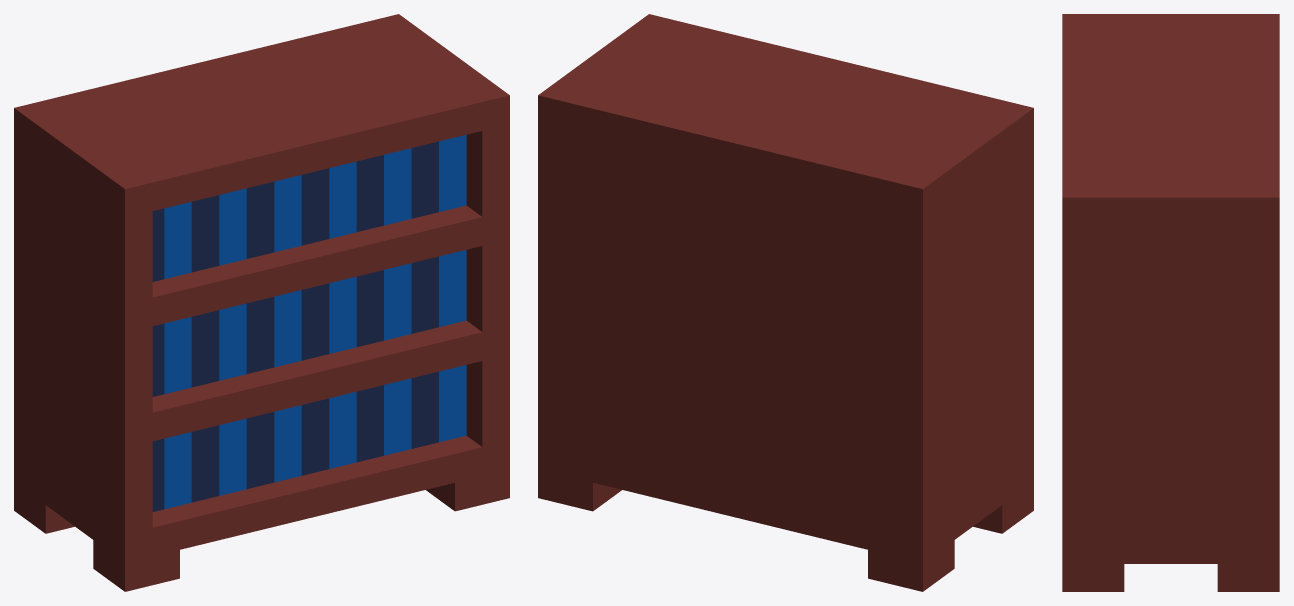
File: large_bookcase_b_blue.obj
3 views of the same model, side by side, from view 1: azimuth 30°, elevation 25°; view 2: azimuth 150°, elevation 25°; view 3: azimuth 270°, elevation 25° (orthographic). The views are drawn at different scales.
Size of the model in its own units: 1.4 by 1.4 by 0.7.
Materials: 1 (1 with a texture image).
